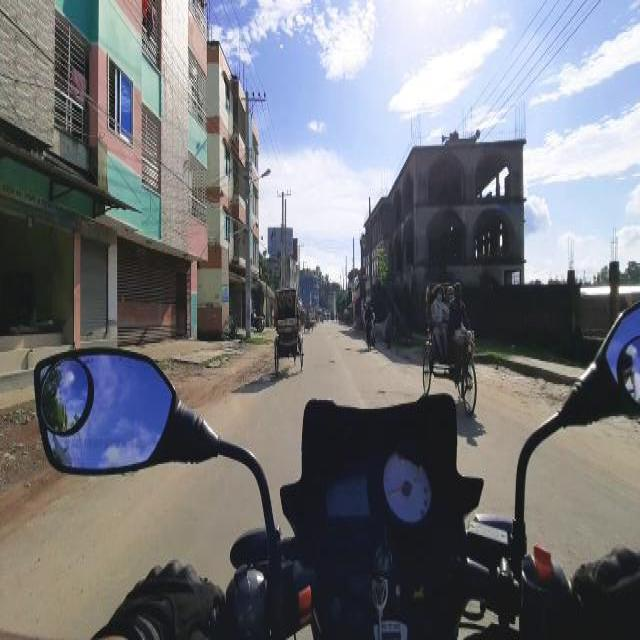motorcycle: (33, 304, 638, 636), (424, 279, 480, 414), (272, 286, 303, 370), (251, 308, 265, 330)
